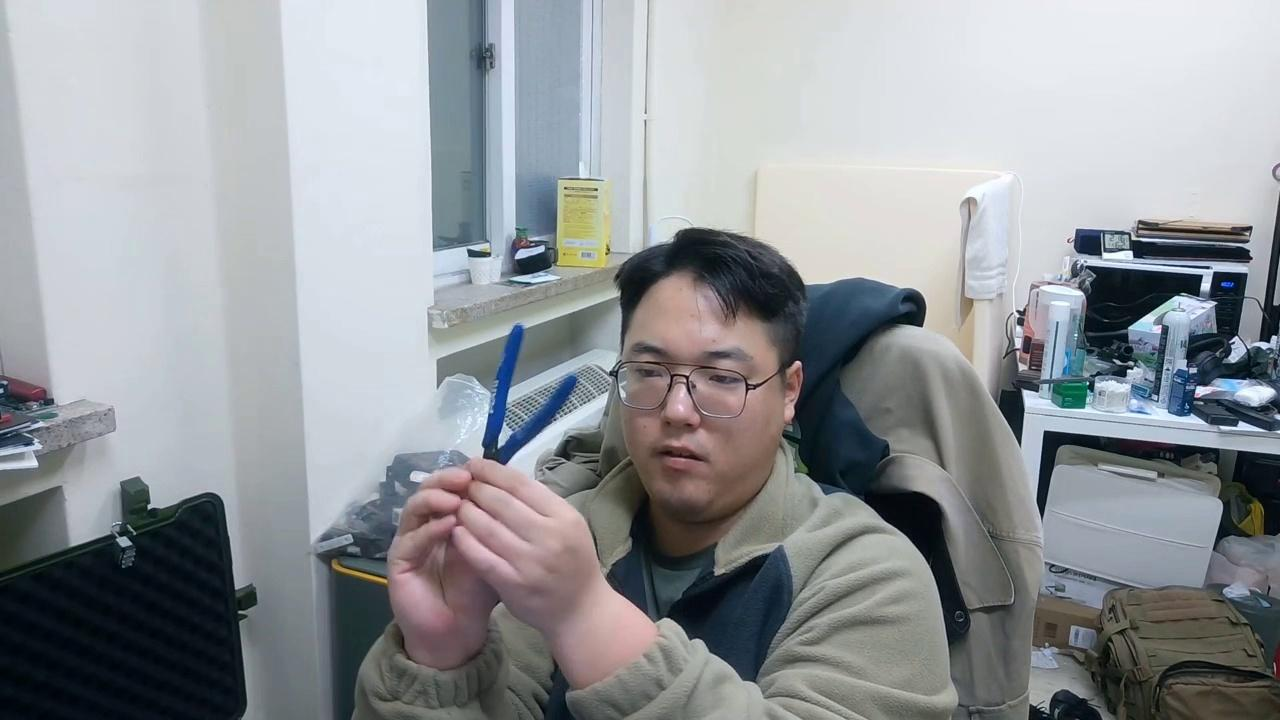blue_pliers: (479, 321, 527, 464)
